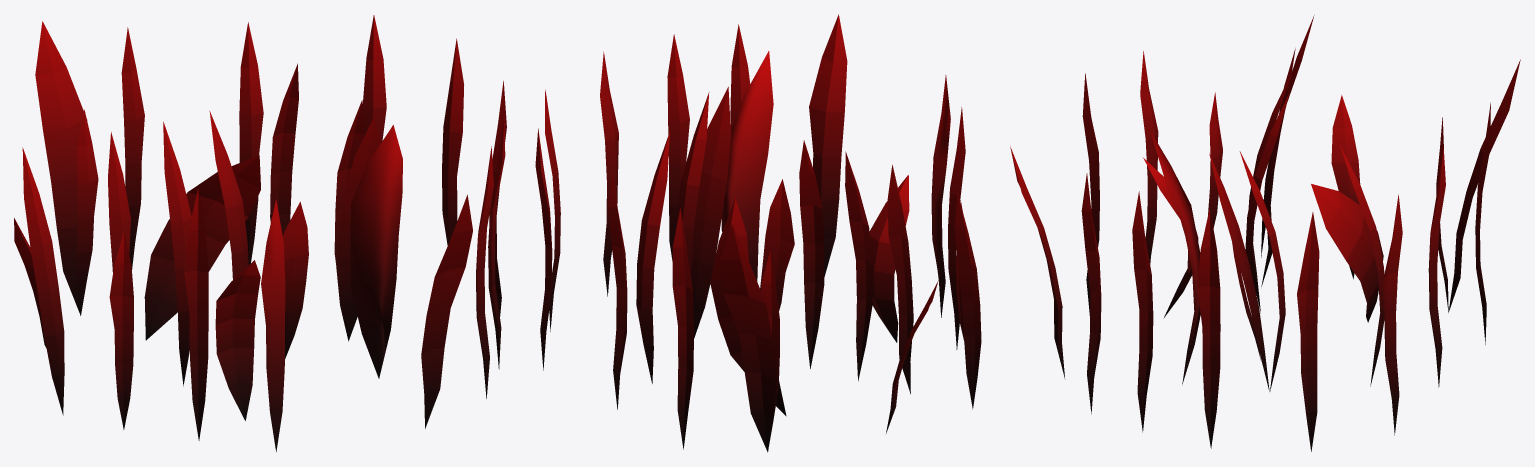
File: grass.fbx
The picture shows the model from 3 angles, left to right: view 1: azimuth 30°, elevation 25°; view 2: azimuth 150°, elevation 25°; view 3: azimuth 270°, elevation 25°; orthographic projection. The views are drawn at different scales.
Parts seen in each view (by area): view 1: Plane.024, Plane.009, Plane.021, Plane.023, Plane.004, Plane.015, Plane.016, Plane.008, Plane.005, Plane.002, Plane.017, Plane.010 (+13 smaller); view 2: Plane.009, Plane.024, Plane.015, Plane.020, Plane.001, Plane.022, Plane.002, Plane.005, Plane.004, Plane.014, Plane.003, Plane.023 (+12 smaller); view 3: Plane.021, Plane.013, Plane.012, Plane.014, Plane.011, Plane.007, Plane.024, Plane.020, Plane.018, Plane.009, Plane.016, Plane.010 (+12 smaller).
Part boxes in pixels (box(x1,y1,x2,y2)): Plane.024: box(350, 125, 402, 378); Plane.009: box(35, 21, 87, 315); Plane.021: box(144, 155, 260, 340); Plane.023: box(215, 260, 260, 420); Plane.004: box(22, 147, 64, 415); Plane.015: box(421, 194, 472, 428); Plane.016: box(184, 188, 208, 440); Plane.008: box(261, 199, 285, 451); Plane.005: box(163, 121, 191, 386); Plane.002: box(121, 27, 144, 268); Plane.017: box(109, 231, 133, 429); Plane.010: box(239, 22, 263, 264); Plane.009: box(720, 224, 776, 451); Plane.024: box(721, 51, 773, 281); Plane.015: box(809, 14, 847, 276); Plane.020: box(692, 86, 730, 338); Plane.001: box(799, 140, 824, 368); Plane.022: box(636, 132, 669, 383); Plane.002: box(672, 207, 693, 449); Plane.005: box(845, 151, 872, 381); Plane.004: box(954, 193, 981, 409); Plane.014: box(667, 34, 689, 261); Plane.003: box(887, 164, 913, 394); Plane.023: box(869, 175, 909, 342); Plane.021: box(1311, 184, 1383, 322); Plane.013: box(1197, 208, 1220, 448); Plane.012: box(1297, 212, 1319, 451); Plane.014: box(1132, 191, 1153, 432); Plane.011: box(1383, 194, 1402, 435); Plane.007: box(1081, 173, 1101, 414); Plane.024: box(1150, 131, 1200, 384); Plane.020: box(1209, 153, 1269, 391); Plane.018: box(1331, 95, 1360, 279); Plane.009: box(1448, 59, 1520, 312); Plane.016: box(1140, 51, 1158, 264); Plane.010: box(1428, 147, 1445, 387).
Size of the model in its own units: 2.16 by 1.26 by 2.27.
